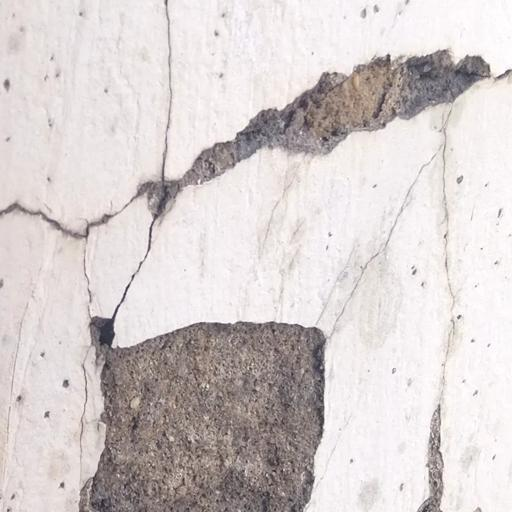spalling: (105, 26, 512, 246), (61, 273, 355, 512), (423, 370, 472, 512)
